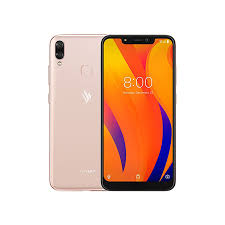vsmart: (99, 34, 177, 193), (49, 32, 104, 190)
